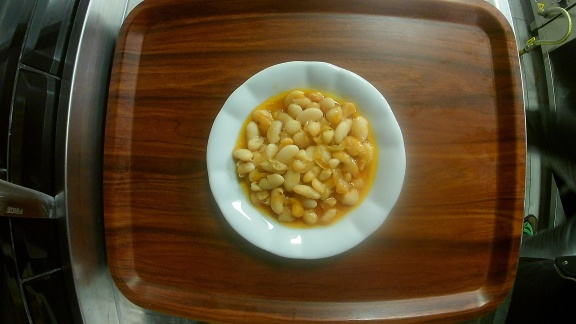kurufasulye: (205, 59, 407, 262)
